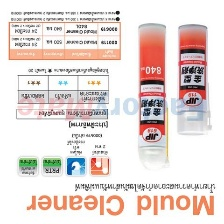aerosol_cans: (135, 22, 172, 172), (173, 22, 213, 137)
